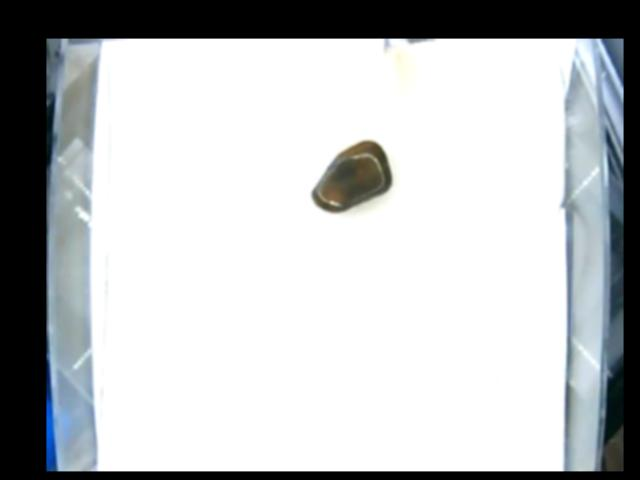Pebble: (310, 139, 394, 213)
